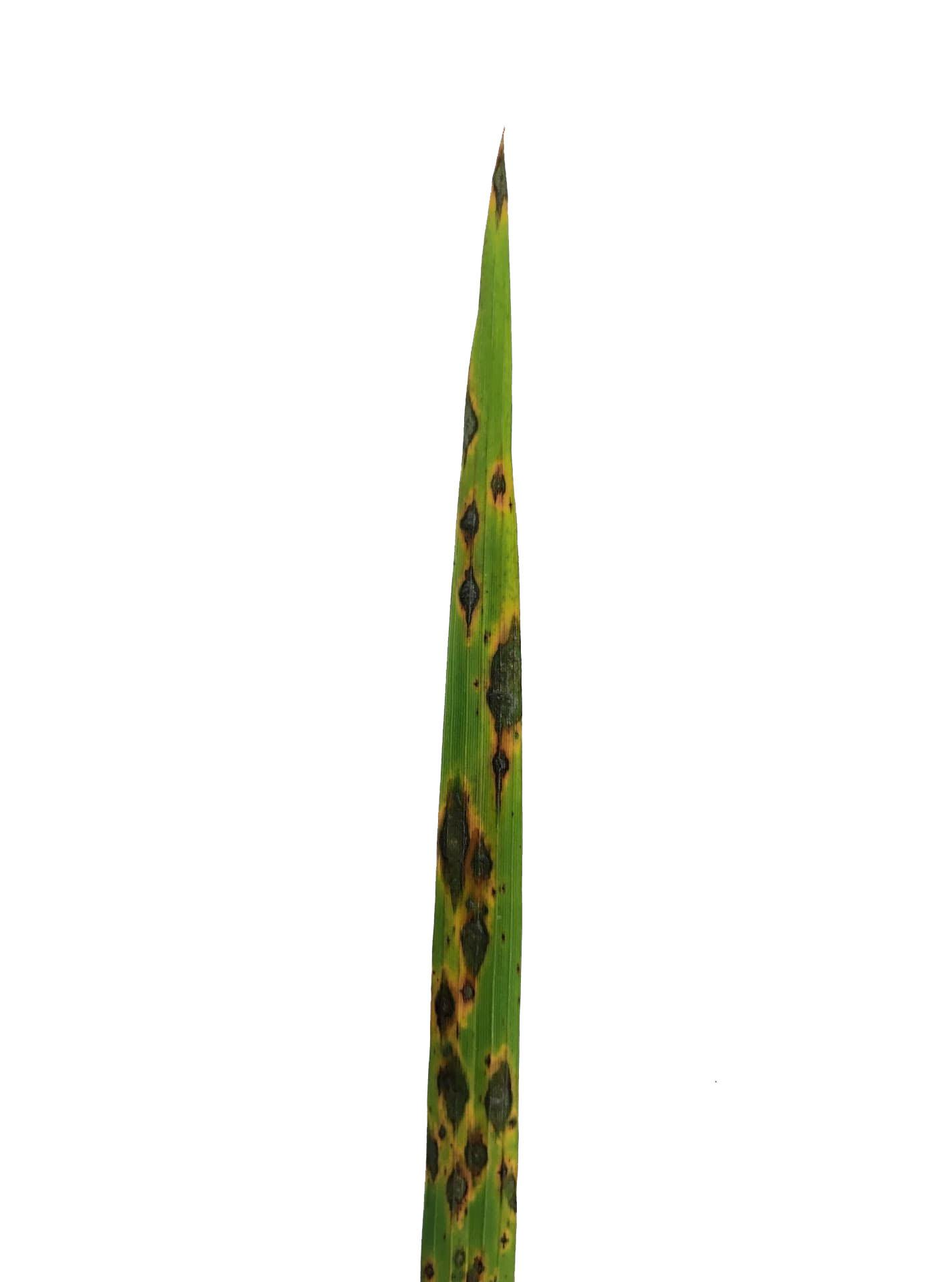Rice blast: (487, 611, 519, 813), (436, 768, 472, 903), (460, 488, 479, 650), (455, 897, 488, 990), (435, 1044, 470, 1127), (485, 1049, 514, 1140), (463, 832, 491, 900), (441, 1160, 470, 1225), (433, 960, 455, 1045), (494, 1154, 516, 1223), (465, 1123, 488, 1188), (424, 1125, 448, 1185), (461, 389, 477, 468), (464, 1250, 489, 1282), (490, 467, 508, 504), (461, 978, 477, 1006)
